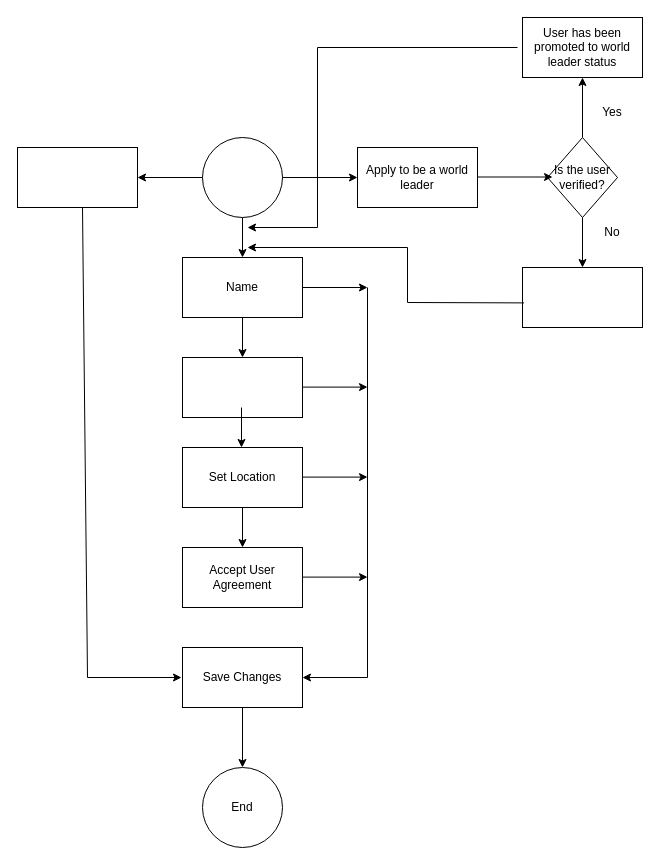
Some shapes in this 660 by 865 pixel diagram are drawn without their labels. Here are the shapes that lost their labels. From the top down, the centre of each, then its label:
At (77,177): "Upload Profile Picture".
At (242,177): "Create Profile".
At (582,297): "Error: User is not a world leader".
At (242,387): "Bio".
